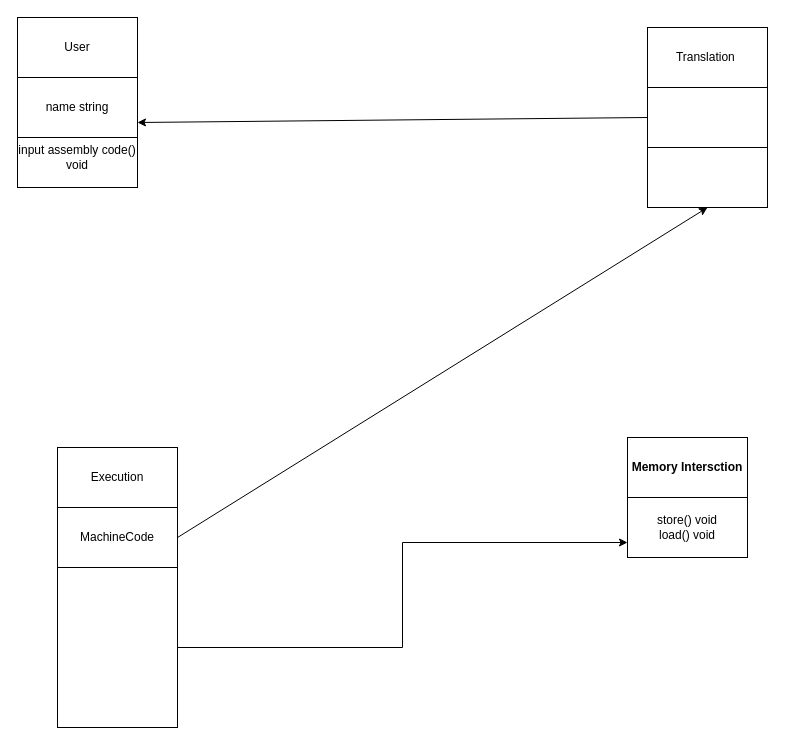
Some shapes in this 785 by 745 pixel diagram are drawn without their labels. Each missing label, with the centre of its shape:
"add() void sub() void load() void store() void slt() void and() void" belongs at point 117,647.
"getAssembly() assembly" belongs at point 707,117.
"getAssembly() void convertAssembly() void" belongs at point 707,177.
